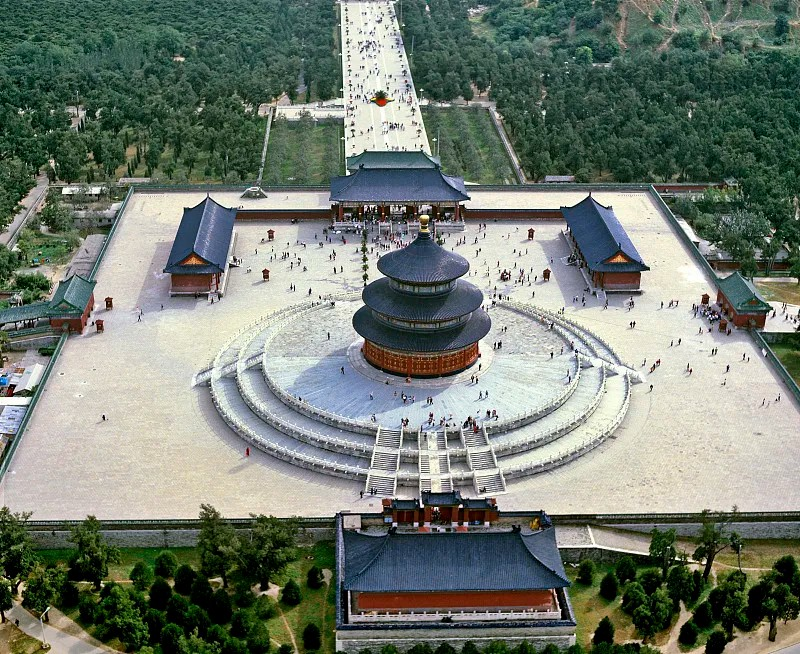Heaven: (350, 215, 492, 379)
